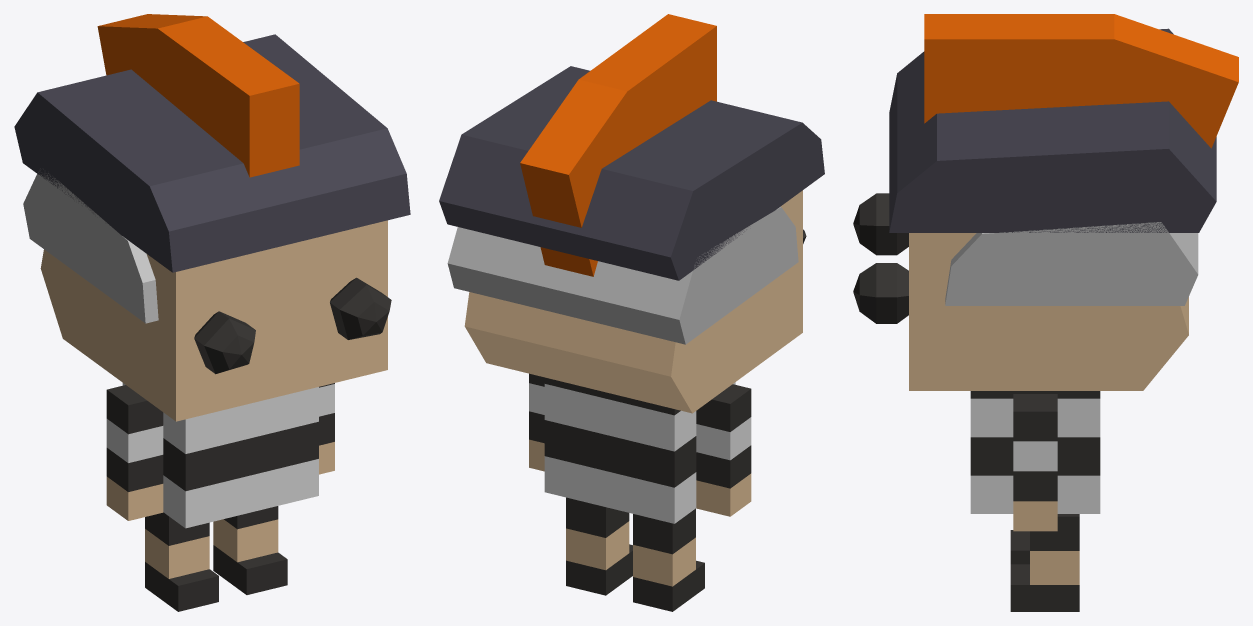
The model's file is All_Prisoner.fbx.
The picture shows the model from 3 angles, left to right: view 1: azimuth 30°, elevation 25°; view 2: azimuth 150°, elevation 25°; view 3: azimuth 270°, elevation 25°; orthographic projection. The views are drawn at different scales.
Visible parts, largest first — view 1: Hair_Speed, Head, Hair_Normal, Body, Hair_big, AR, FR, FL, AL; view 2: Hair_Speed, Head, Hair_big, Hair_Normal, Body, AR, FR, FL, AL; view 3: Hair_Speed, Head, Hair_Normal, Hair_big, Body, AL, FL, FR.
Part boxes in pixels (<box>): Hair_Speed: <box>14,34,410,272</box>; Head: <box>40,220,391,421</box>; Hair_Normal: <box>97,14,299,177</box>; Body: <box>122,383,318,528</box>; Hair_big: <box>23,168,158,323</box>; AR: <box>106,385,163,520</box>; FR: <box>145,512,218,611</box>; FL: <box>213,506,287,594</box>; AL: <box>319,383,334,474</box>; Hair_Speed: <box>439,66,824,280</box>; Head: <box>464,190,806,413</box>; Hair_big: <box>447,206,798,344</box>; Hair_Normal: <box>520,14,716,276</box>; Body: <box>544,377,735,523</box>; AR: <box>696,384,751,516</box>; FR: <box>633,508,704,611</box>; FL: <box>566,497,632,595</box>; AL: <box>529,373,544,471</box>; Hair_Speed: <box>889,28,1216,232</box>; Head: <box>853,193,1188,390</box>; Hair_Normal: <box>924,14,1238,148</box>; Hair_big: <box>945,222,1198,305</box>; Body: <box>970,391,1100,513</box>; AL: <box>1013,394,1057,531</box>; FL: <box>1010,514,1079,611</box>; FR: <box>1010,530,1029,564</box>.
Size of the model in its own units: 1.12 by 2.43 by 1.53.
